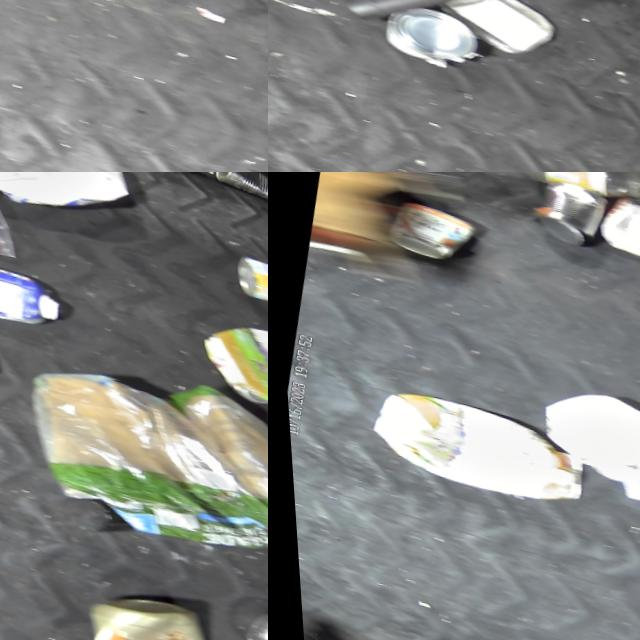can: (378, 191, 479, 267), (522, 172, 613, 250), (373, 0, 479, 66), (590, 180, 640, 269), (220, 240, 268, 305), (206, 172, 268, 199)
milk_jug: (0, 172, 137, 231)
non_white_jug: (356, 375, 588, 513), (57, 570, 220, 640)
